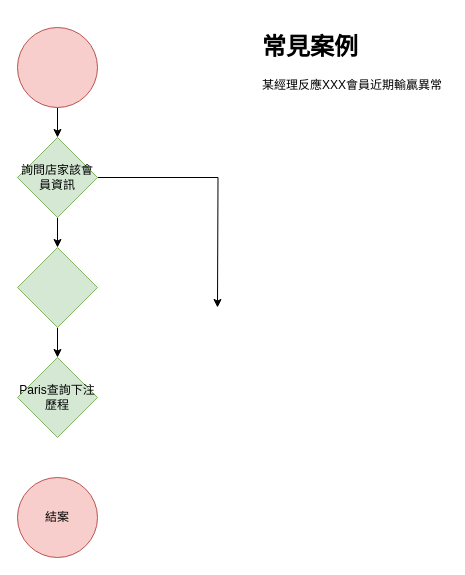
Some shapes in this 465 by 575 pixel diagram are drawn without their labels. Each missing label, with the box of its shape:
Paris查詢輸贏歷程: (16, 246, 98, 328)
立案: (16, 26, 98, 108)
